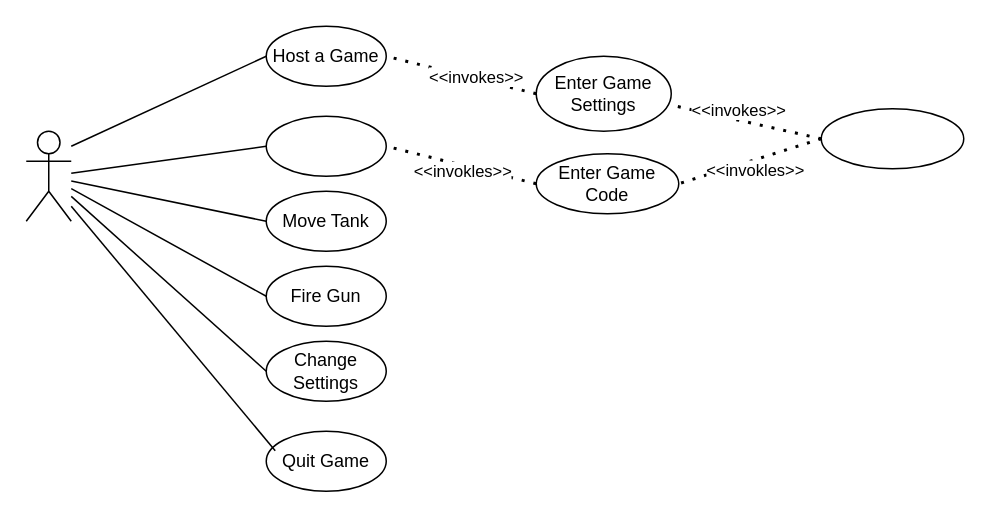
Image size: 990x518. Some labels were removed from this diagram. The box of each missing label's shape, as (x1, y1, x2, y2) in pixels:
Join a Game: (265, 115, 386, 176)
Load into Game: (820, 107, 964, 169)
User: (25, 130, 71, 221)
